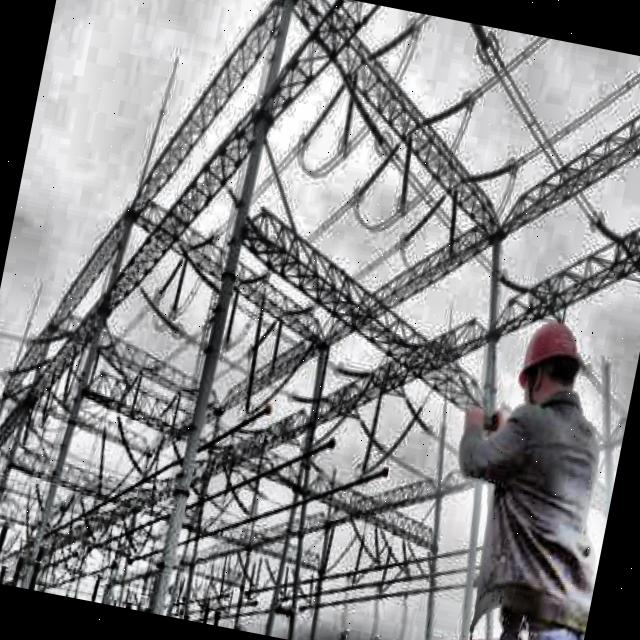helmet: (504, 308, 598, 426)
